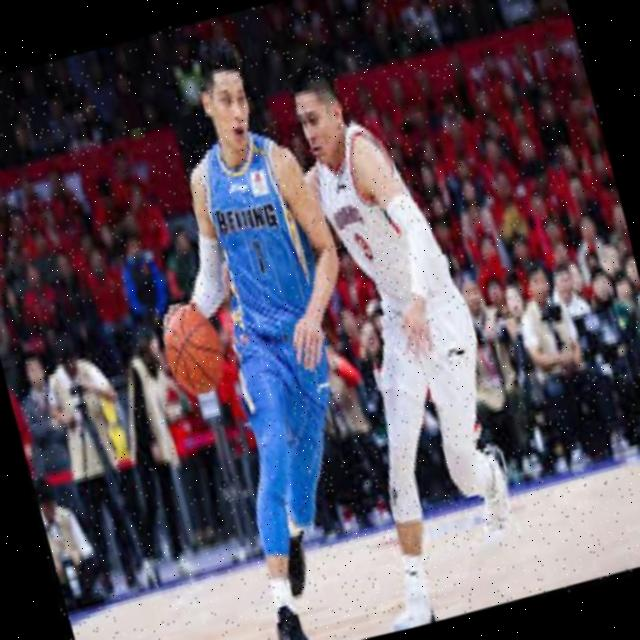ball: (156, 302, 230, 400)
